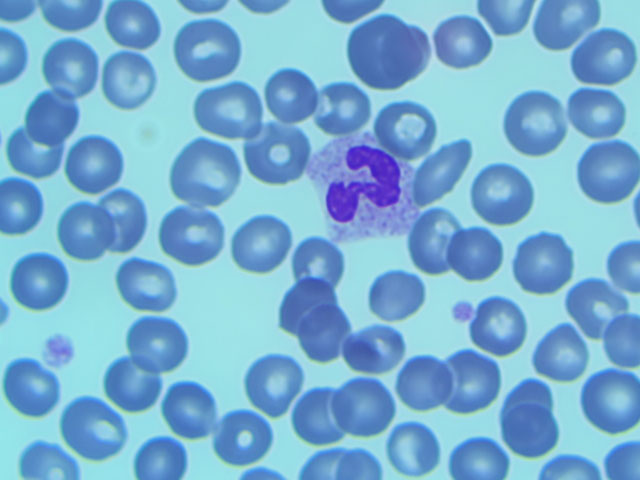Platelets: (43, 334, 77, 366), (444, 298, 478, 321)
RBC: (343, 10, 431, 93), (174, 15, 241, 83), (98, 46, 165, 114), (63, 125, 130, 193), (151, 374, 218, 442), (205, 402, 272, 470), (237, 346, 304, 414), (279, 285, 346, 353), (564, 87, 631, 155), (573, 34, 640, 102), (543, 1, 610, 69), (384, 353, 451, 421), (353, 321, 420, 389), (379, 412, 446, 480), (23, 82, 90, 150), (33, 33, 100, 101), (99, 1, 166, 68), (1, 122, 67, 190), (577, 365, 640, 432), (495, 386, 557, 453), (169, 141, 235, 203), (243, 126, 309, 188), (566, 275, 626, 340), (506, 91, 568, 153), (415, 140, 475, 203), (115, 255, 177, 315), (163, 205, 223, 267), (229, 213, 289, 274), (58, 396, 120, 455), (195, 81, 262, 135), (100, 353, 161, 412), (429, 14, 491, 72), (578, 144, 640, 202), (518, 232, 577, 292), (367, 267, 426, 326), (471, 164, 532, 221), (448, 225, 509, 282), (449, 353, 501, 419), (291, 234, 350, 292), (1, 357, 59, 415), (263, 67, 320, 126), (340, 376, 396, 436), (284, 383, 340, 443), (315, 78, 374, 134), (54, 203, 111, 260), (130, 315, 188, 371), (376, 102, 434, 156), (535, 326, 586, 387), (478, 295, 529, 356), (12, 251, 66, 308), (412, 206, 459, 271)
WBC: (306, 136, 417, 237)
